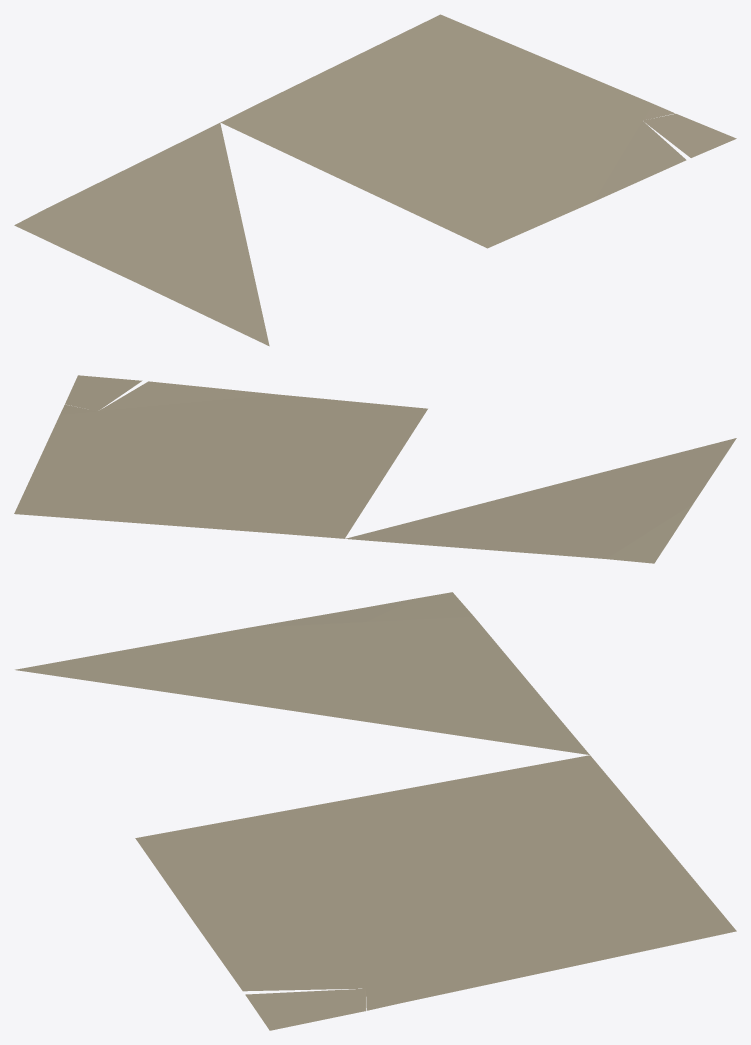
The model's file is farm_23_20_soil.glb.
3 views of the same model, one above another, from view 1: azimuth 30°, elevation 25°; view 2: azimuth 150°, elevation 25°; view 3: azimuth 270°, elevation 25° (orthographic). The views are drawn at different scales.
Visible parts, largest first — view 1: geometry_0; view 2: geometry_0; view 3: geometry_0.
Part boxes in pixels (x1,y1,x2,y2): geometry_0: [14, 14, 736, 346]; geometry_0: [14, 375, 736, 563]; geometry_0: [15, 592, 736, 1030].
Bounding box in the file's own units: 188 × 5.94 × 140.
